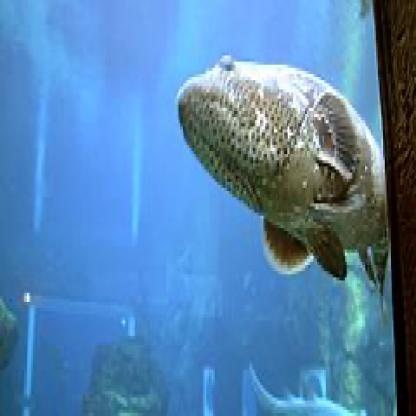Serranidae -Groupers-: (171, 44, 394, 334)
